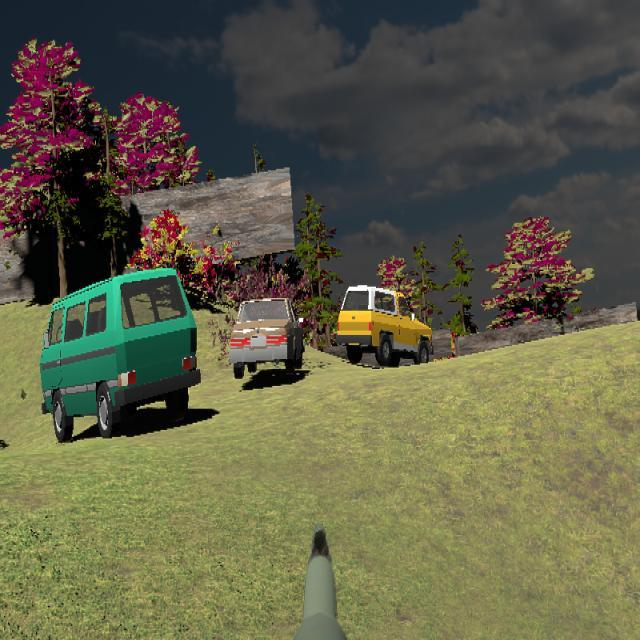car: (40, 266, 201, 441), (337, 284, 432, 367), (337, 285, 432, 367), (229, 296, 305, 380)
